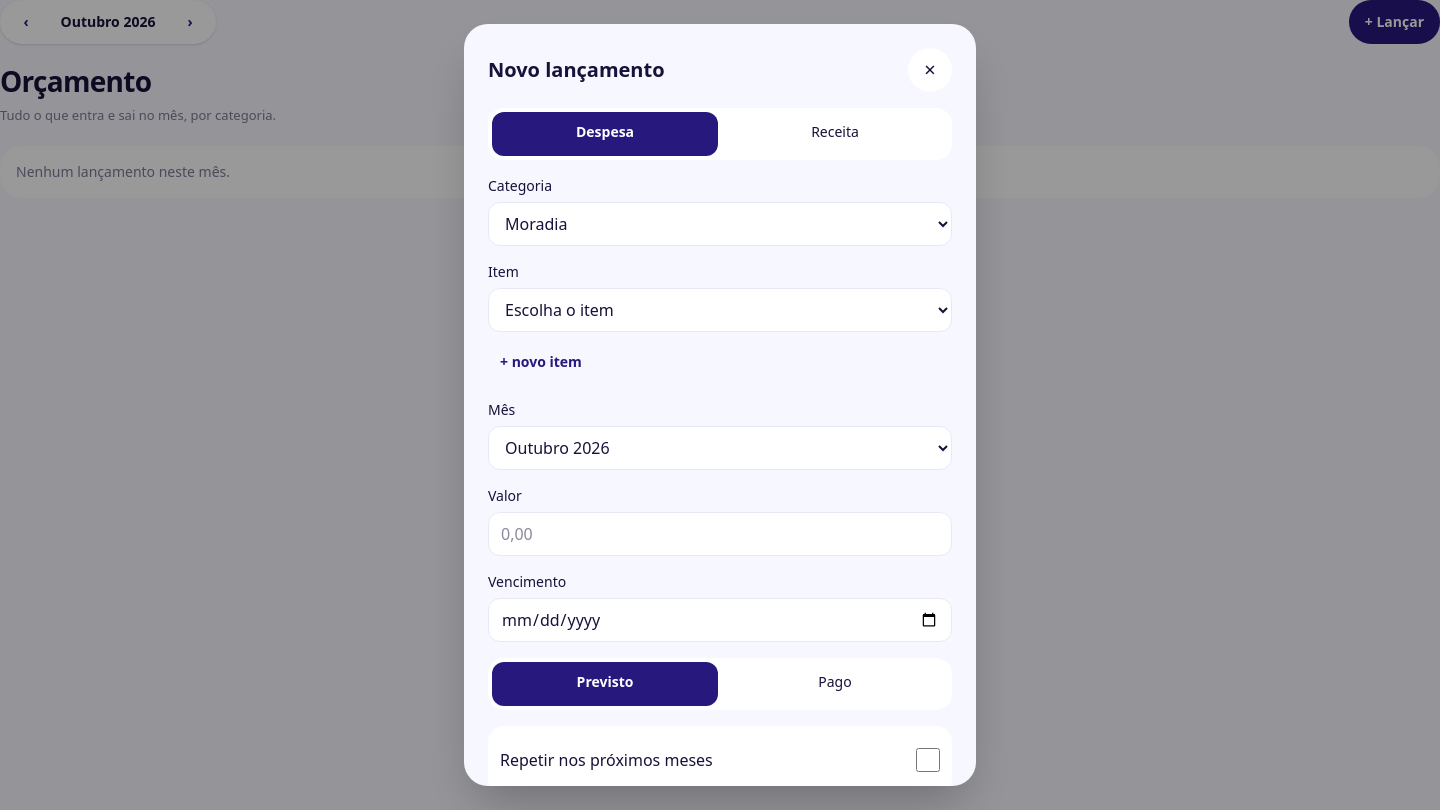
Test case: LancamentoForm (novo) › form_recusa_valor_com_tres_casas
Select "Luz" in the dropdown labelled "Item" at (720, 310), box [488, 288, 952, 332]
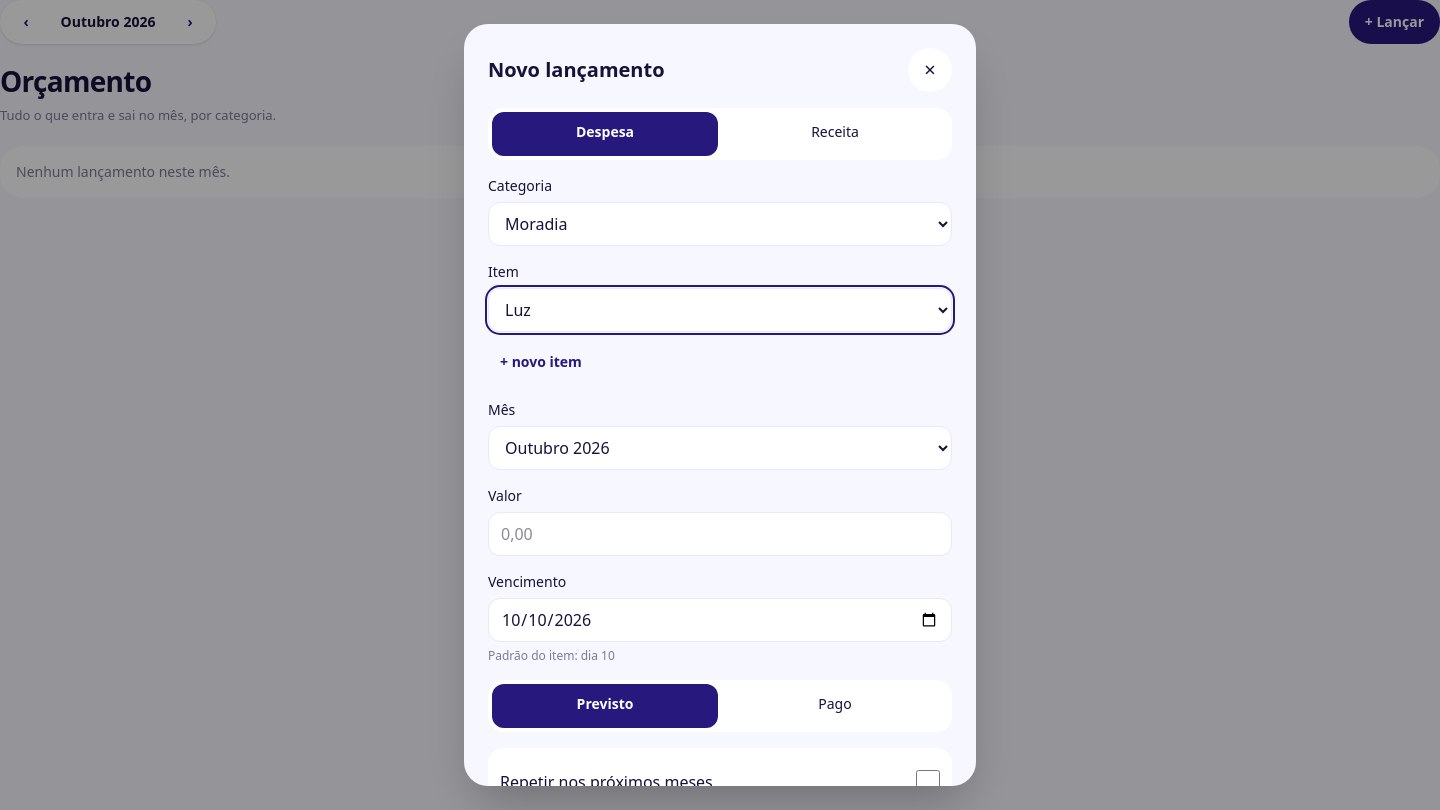
Type "10,999" into the field labelled "Valor".
click(720, 534); type("10,999")  # box [488, 512, 952, 556]
(page scrolled)
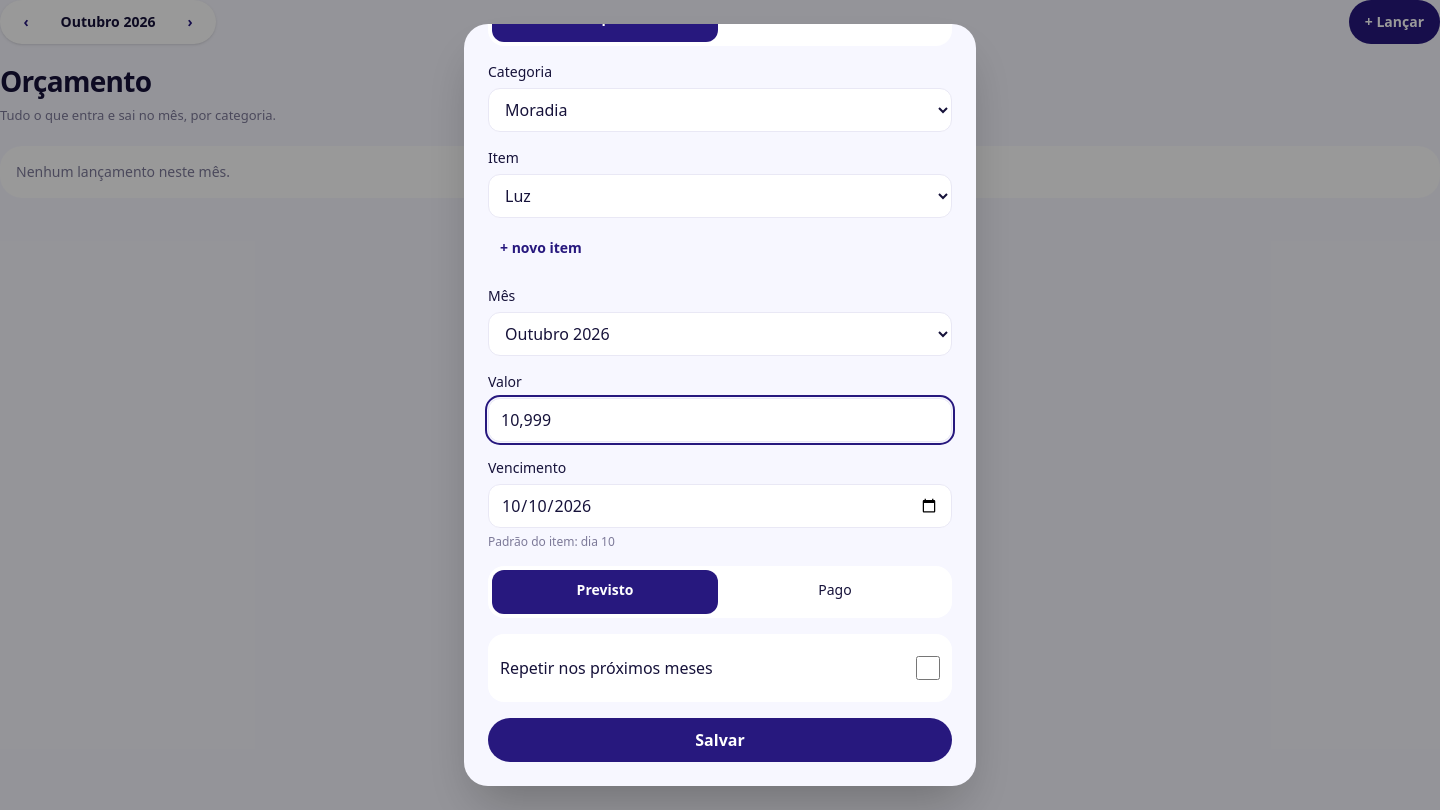
Click the button "Salvar".
click(720, 740)  # box [488, 718, 952, 762]
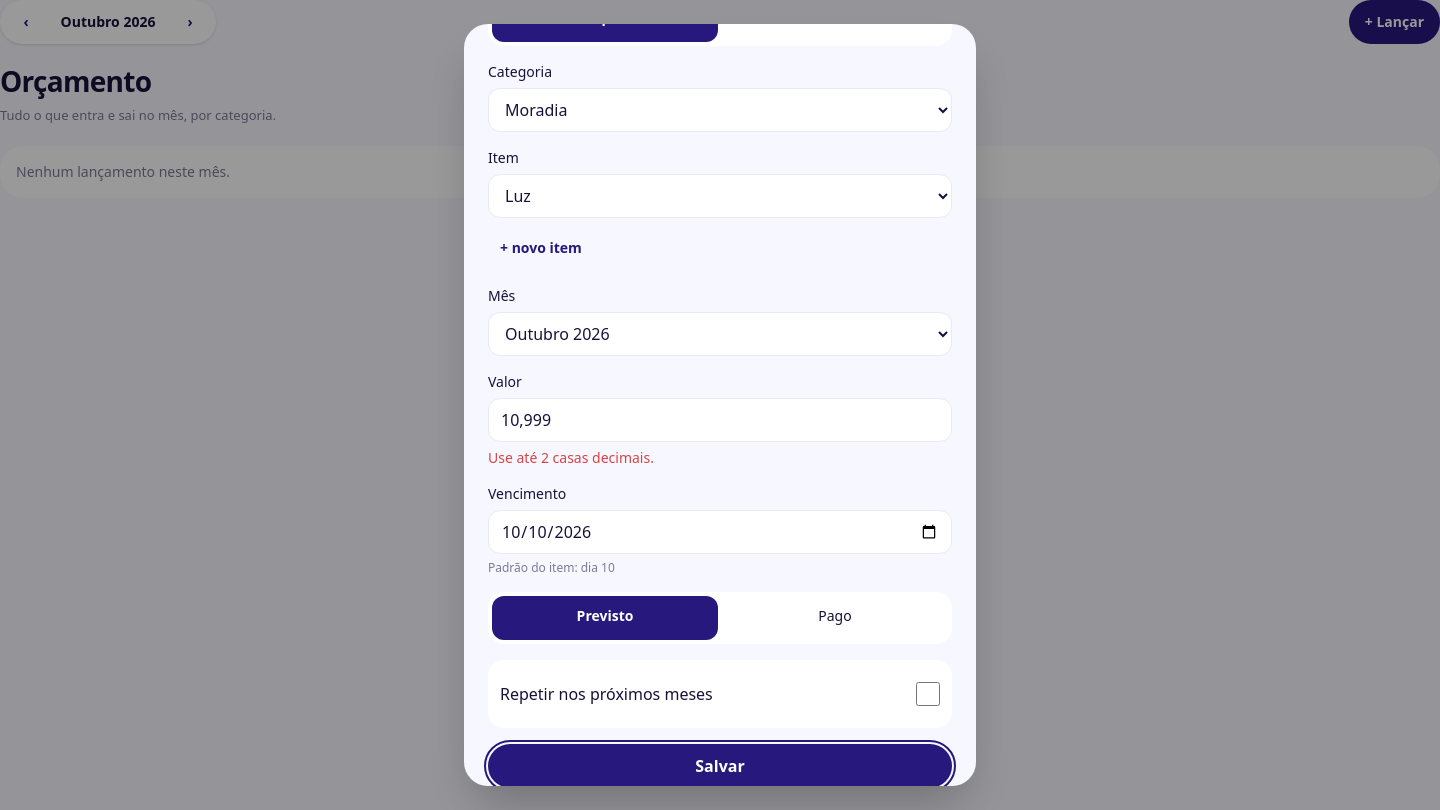
Now the text "Use até 2 casas decimais." is shown, box [488, 448, 654, 467]
